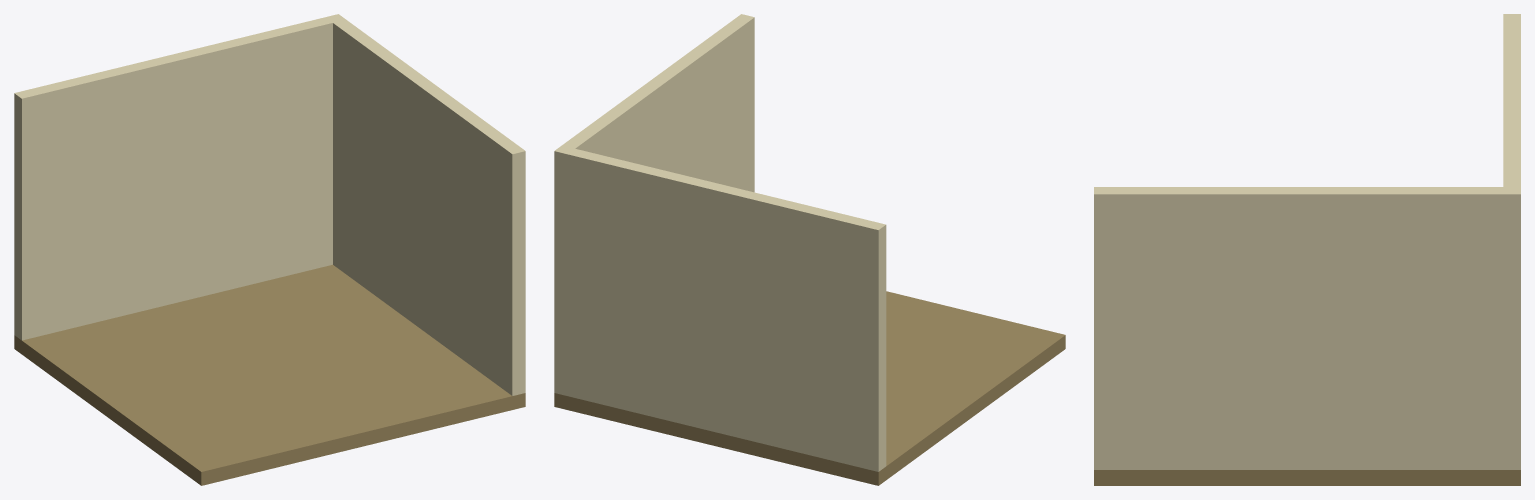
File: room6.glb
The picture shows the model from 3 angles, left to right: view 1: azimuth 30°, elevation 25°; view 2: azimuth 150°, elevation 25°; view 3: azimuth 270°, elevation 25°; orthographic projection. The views are drawn at different scales.
Parts seen in each view (by area): view 1: room6; view 2: room6; view 3: room6.
Boxes of the visible parts, x1=… form: room6: x1=14, y1=14, x2=525, y2=485; room6: x1=554, y1=14, x2=1065, y2=485; room6: x1=1094, y1=14, x2=1520, y2=485.
Size of the model in its own units: 3.65 by 2.75 by 3.65.
